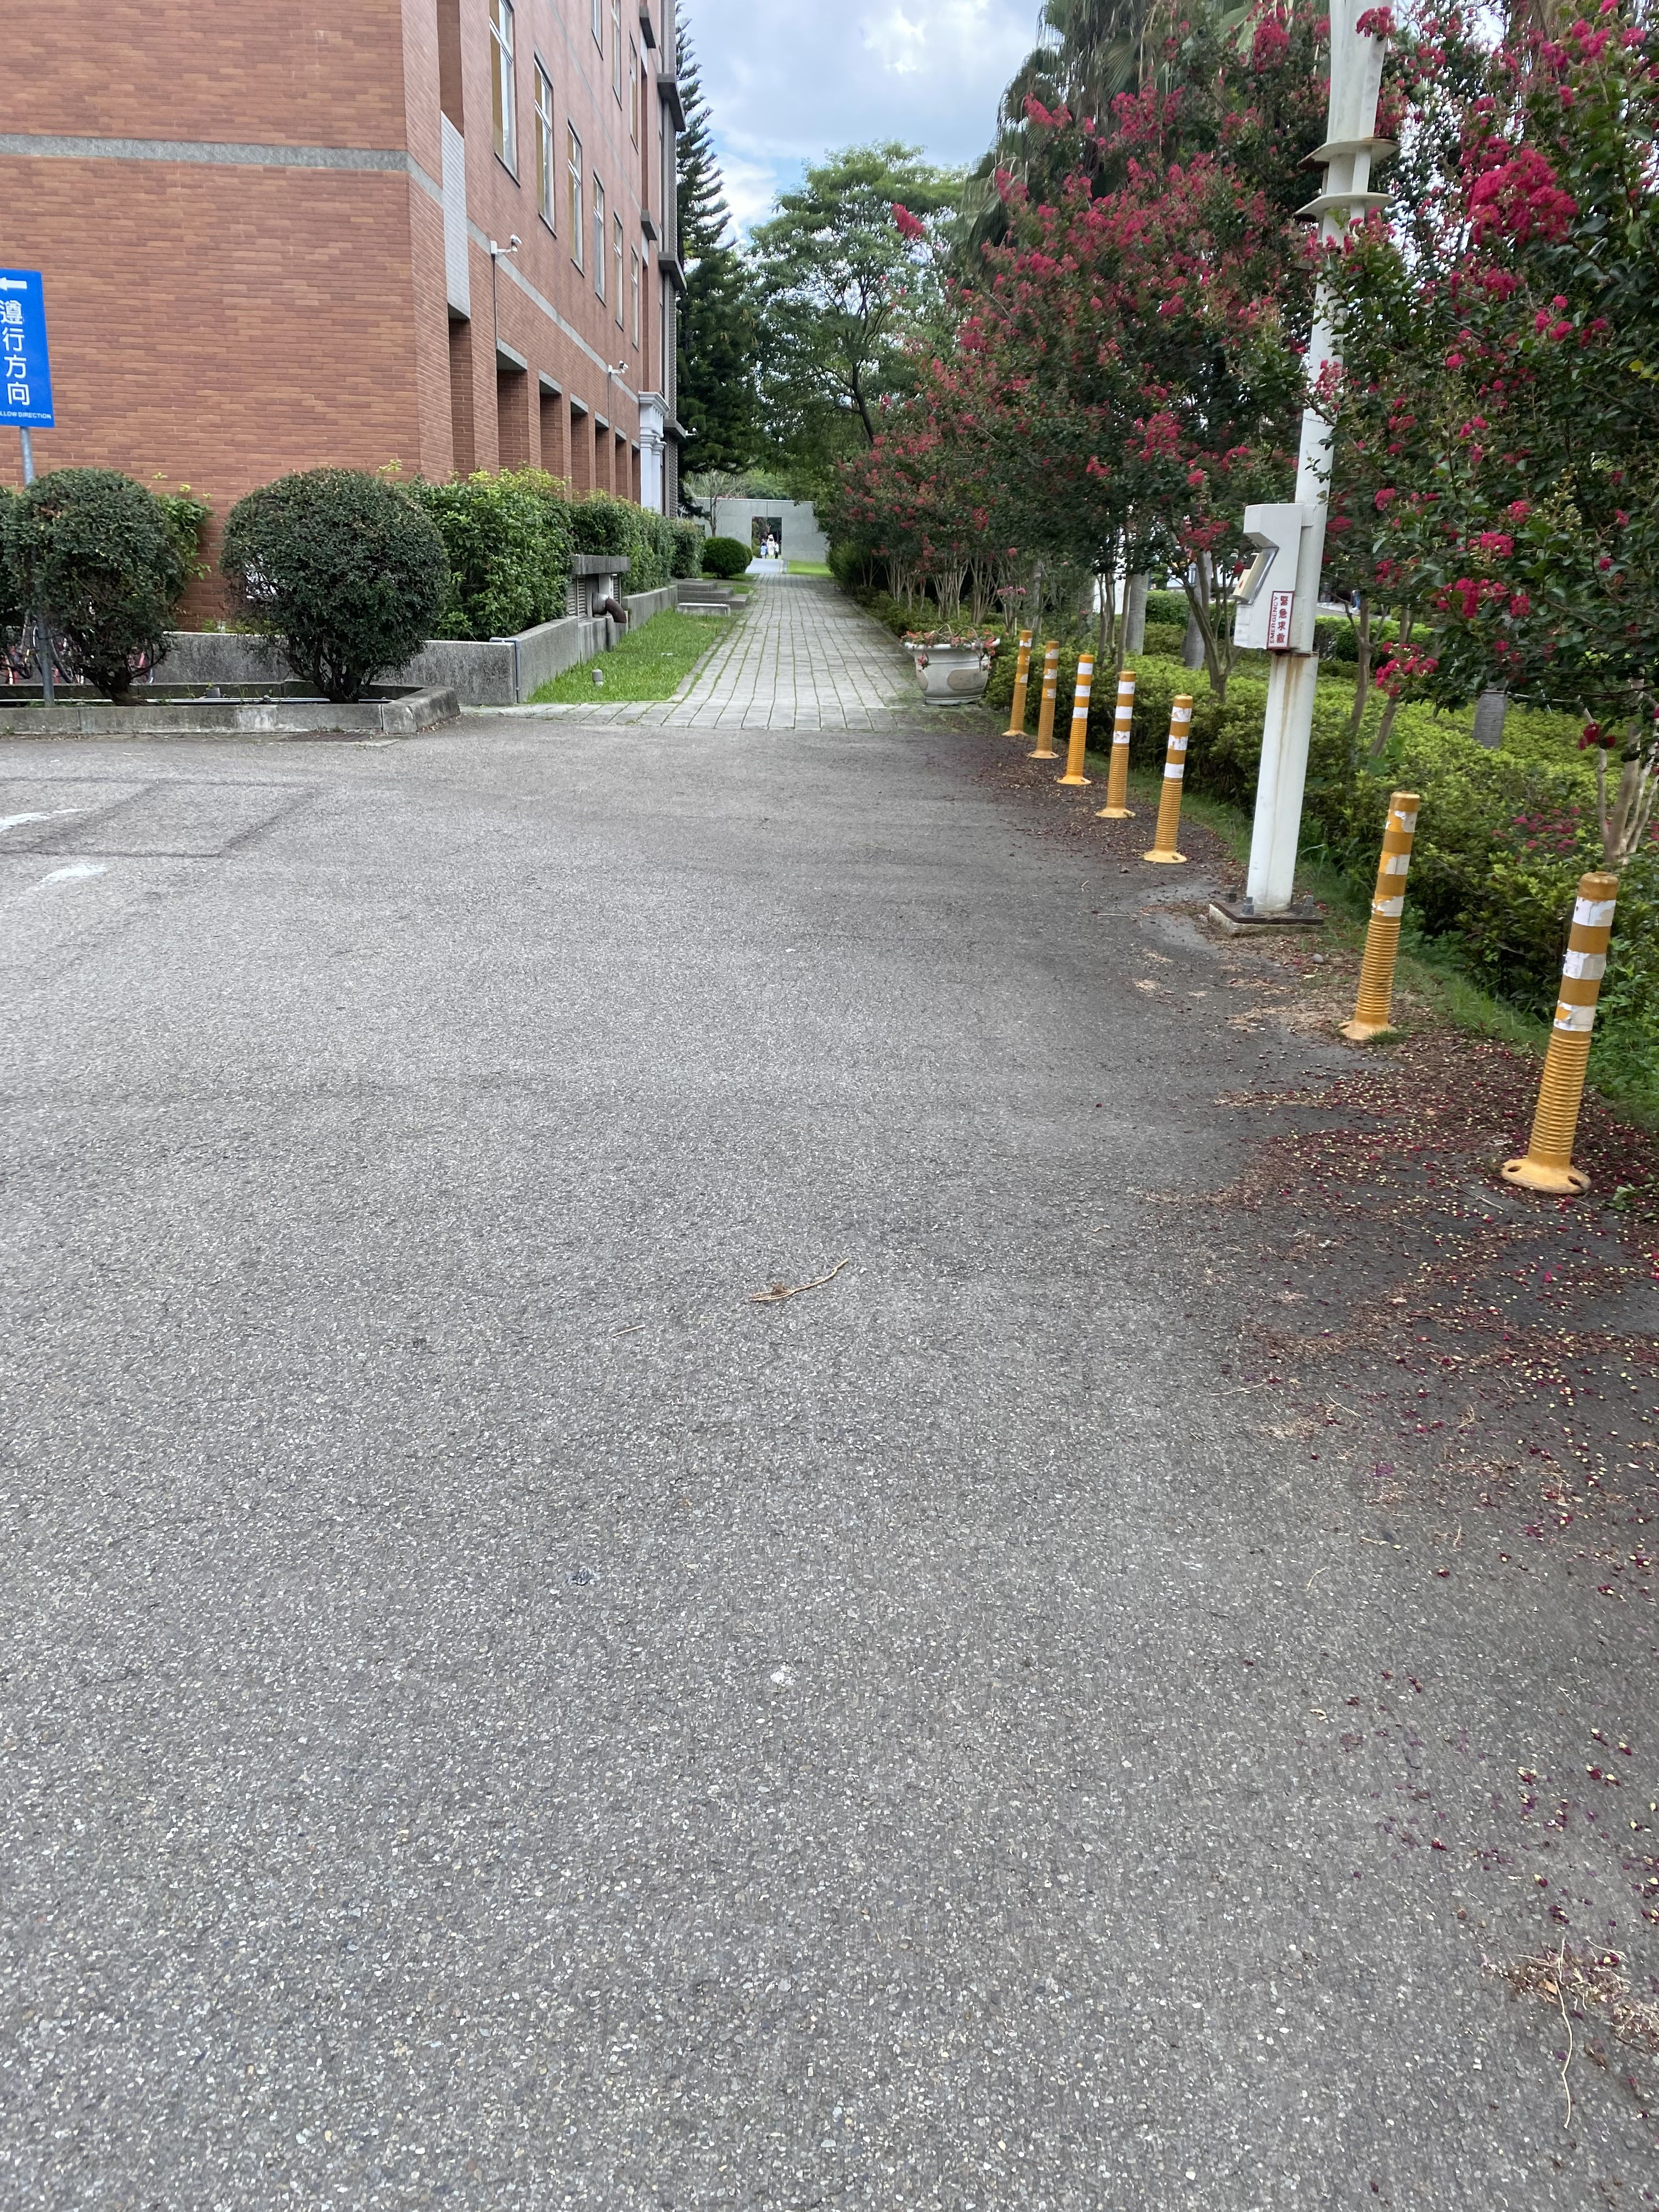0: (347, 698, 1460, 2212)
sidewalk: (641, 519, 971, 829)
